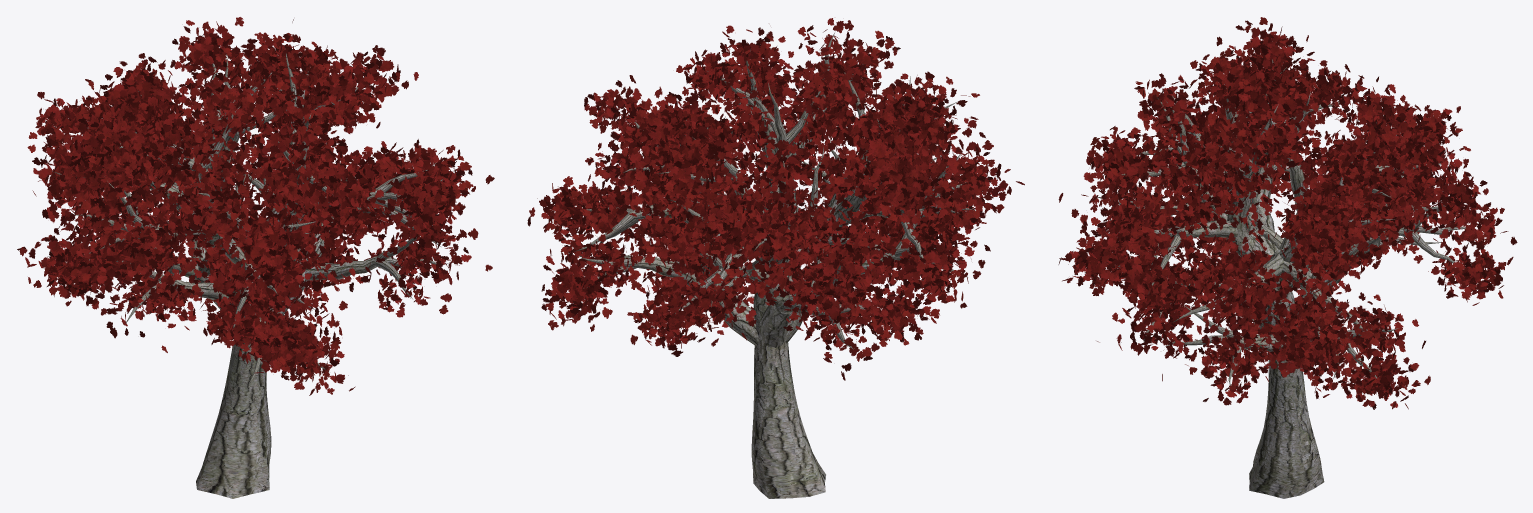
3 renders of one model, left to right at view 1: azimuth 30°, elevation 25°; view 2: azimuth 150°, elevation 25°; view 3: azimuth 270°, elevation 25°, orthographic. The views are drawn at different scales.
Visible parts, largest first — view 1: Arce foliage cards, Arce_EasyTree_V021_Proof; view 2: Arce foliage cards, Arce_EasyTree_V021_Proof; view 3: Arce foliage cards, Arce_EasyTree_V021_Proof.
Part boxes in pixels (<box>): Arce foliage cards: <box>17,17,494,395</box>; Arce_EasyTree_V021_Proof: <box>47,48,448,498</box>; Arce foliage cards: <box>527,18,1024,380</box>; Arce_EasyTree_V021_Proof: <box>574,31,982,498</box>; Arce foliage cards: <box>1058,17,1517,409</box>; Arce_EasyTree_V021_Proof: <box>1094,59,1465,498</box>.
Bounding box in the file's own units: 7.14 × 7.11 × 6.94.
Materials: 2 (2 with a texture image).
